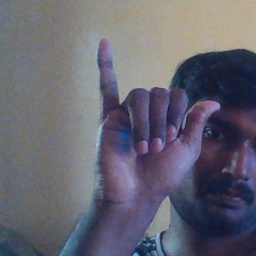J: (91, 39, 222, 195)
